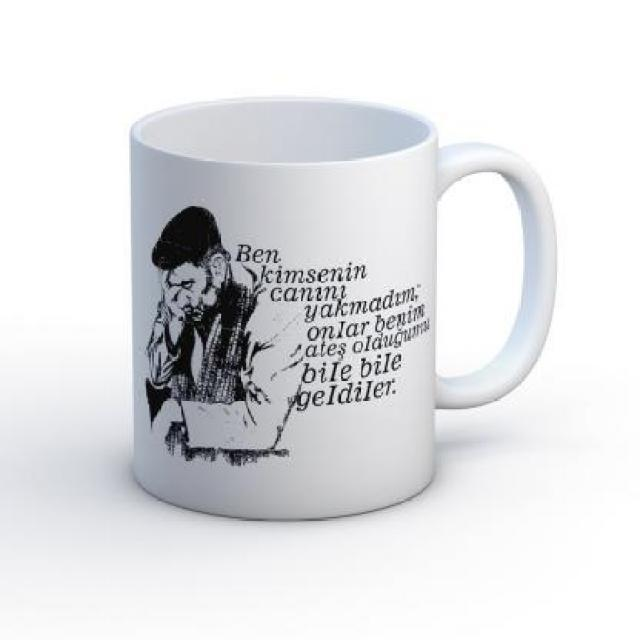taza: (126, 94, 558, 522)
